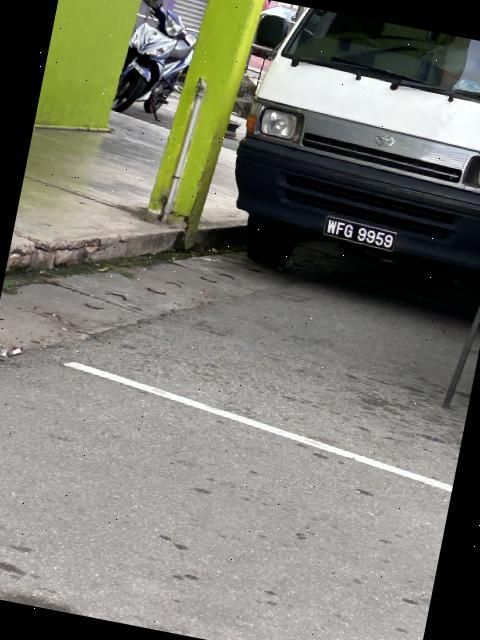License_Plate: (321, 213, 402, 257)
WFG9959: (321, 213, 402, 257)
van: (205, 1, 480, 313)
